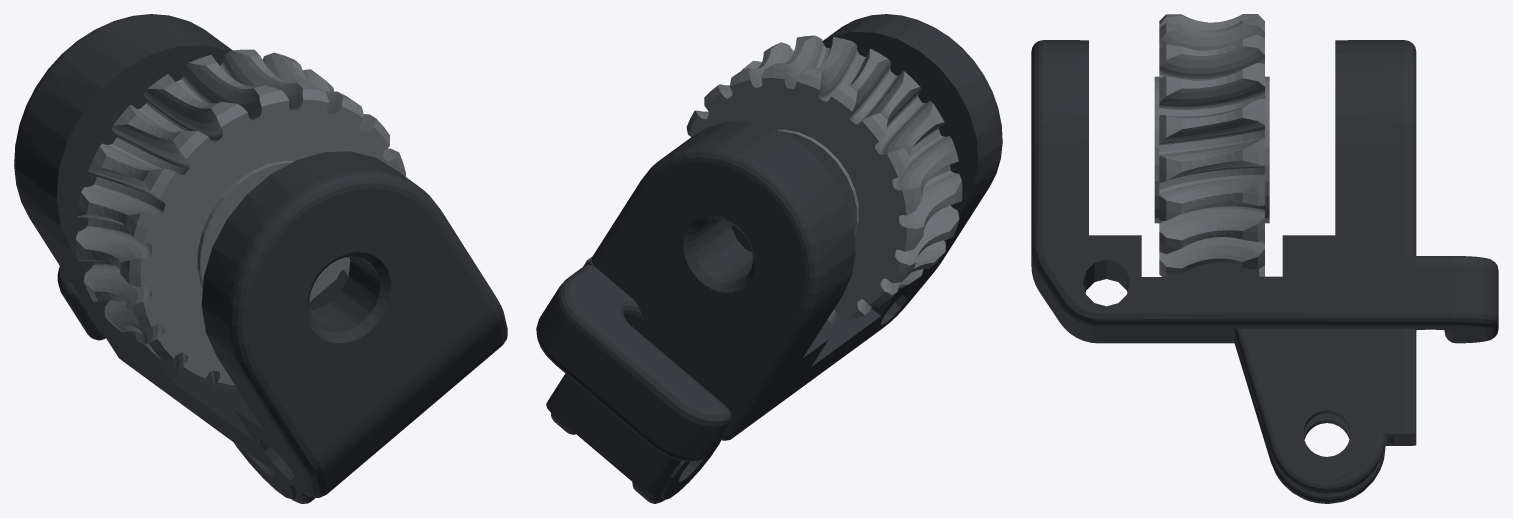
Rendered from lh_thumb_metacarpals_base2_vis.obj.
3 views of the same model, side by side, from view 1: azimuth 30°, elevation 25°; view 2: azimuth 150°, elevation 25°; view 3: azimuth 270°, elevation 25° (orthographic). The views are drawn at different scales.
Parts seen in each view (by area): view 1: lh_thumb_metacarpals_base2; view 2: lh_thumb_metacarpals_base2; view 3: lh_thumb_metacarpals_base2.
Boxes of the visible parts, x1,y1,x2,y2 form: lh_thumb_metacarpals_base2: [14, 14, 507, 503]; lh_thumb_metacarpals_base2: [536, 14, 1002, 503]; lh_thumb_metacarpals_base2: [1031, 14, 1498, 503].
Size of the model in its own units: 0.0158 by 0.0201 by 0.0199.
1 material, 1 textured.
